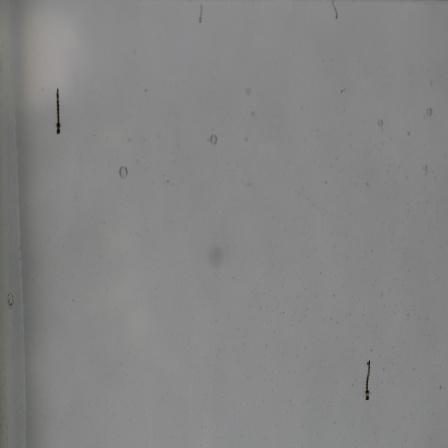Jentik-Nyamuk: (52, 82, 65, 138), (363, 357, 373, 406)
